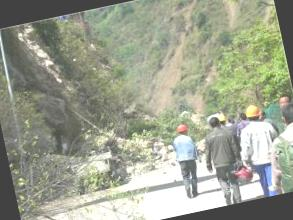no_helmet: (276, 100, 293, 127), (274, 92, 292, 109), (207, 113, 224, 130)
